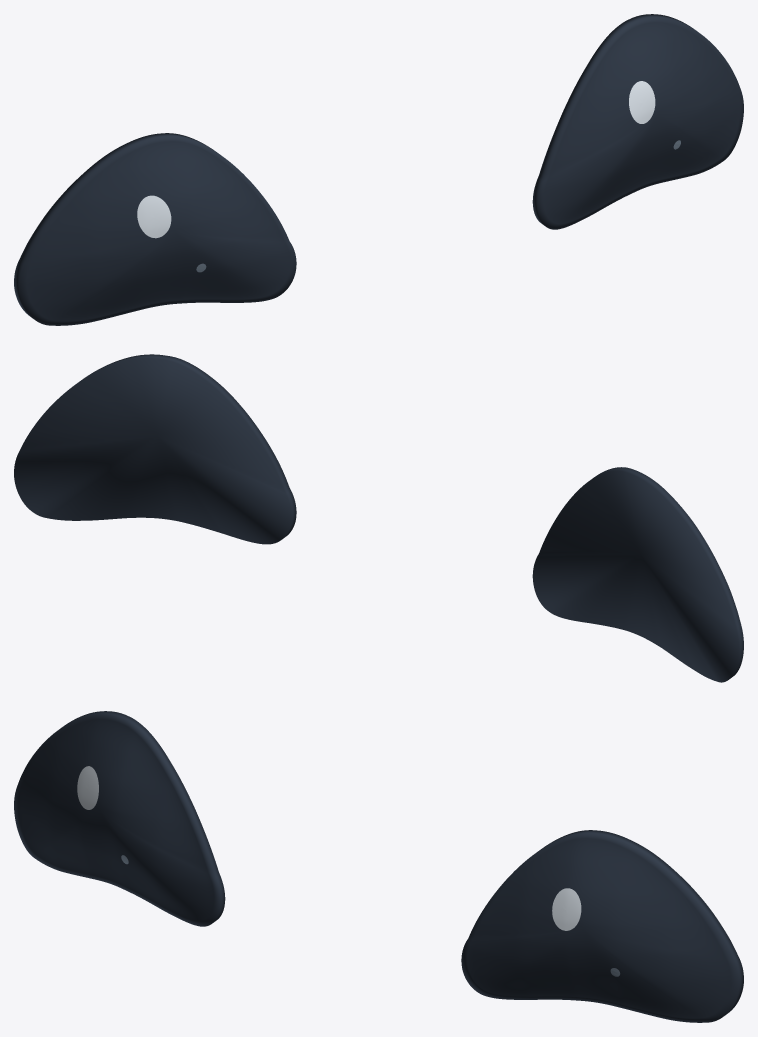
The model's file is Feminine-eyes-squint.glb.
3 views of the same model, one above another, from view 1: azimuth 30°, elevation 25°; view 2: azimuth 150°, elevation 25°; view 3: azimuth 330°, elevation 25° (orthographic).
Parts seen in each view (by area): view 1: 226 eyes / Eye / smoky charcoal181, 226 eyes / Eye highlight181; view 2: 226 eyes / Eye / smoky charcoal181; view 3: 226 eyes / Eye / smoky charcoal181, 226 eyes / Eye highlight181.
Part boxes in pixels (left/top/right/bottom): 226 eyes / Eye / smoky charcoal181: left=14, top=14, right=743, bottom=325; 226 eyes / Eye highlight181: left=137, top=81, right=655, bottom=238; 226 eyes / Eye / smoky charcoal181: left=14, top=354, right=743, bottom=682; 226 eyes / Eye / smoky charcoal181: left=14, top=711, right=743, bottom=1022; 226 eyes / Eye highlight181: left=77, top=766, right=581, bottom=930.
Size of the model in its own units: 0.45 by 0.1037 by 0.047.
